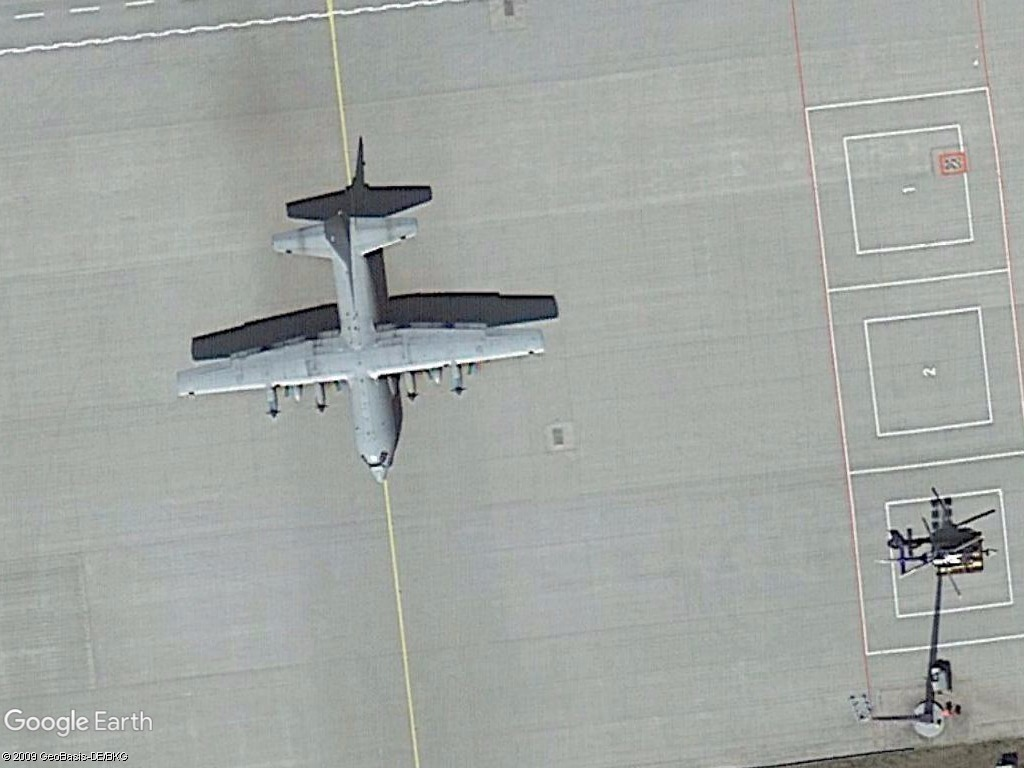helicopter: (868, 525, 997, 593)
propeller: (168, 206, 559, 491)
